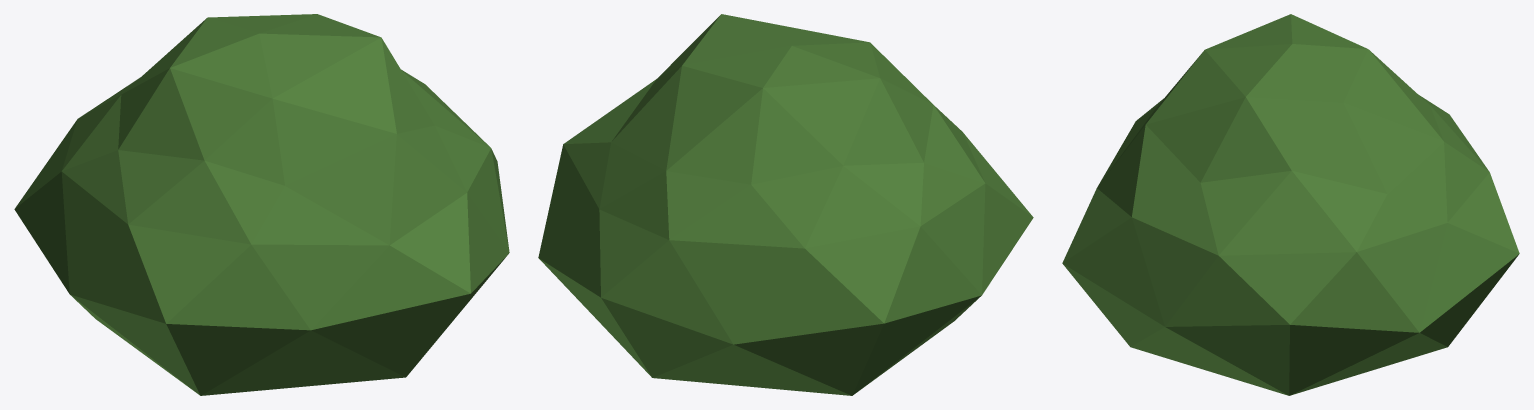
File: Bush.fbx
3 renders of one model, left to right at view 1: azimuth 30°, elevation 25°; view 2: azimuth 150°, elevation 25°; view 3: azimuth 270°, elevation 25°, orthographic. The views are drawn at different scales.
Parts seen in each view (by area): view 1: Bush; view 2: Bush; view 3: Bush.
Boxes of the visible parts, x1,y1,x2,y2 form: Bush: (14,14,509,395); Bush: (538,14,1033,395); Bush: (1062,14,1519,395).
Size of the model in its own units: 377 by 248 by 372.
